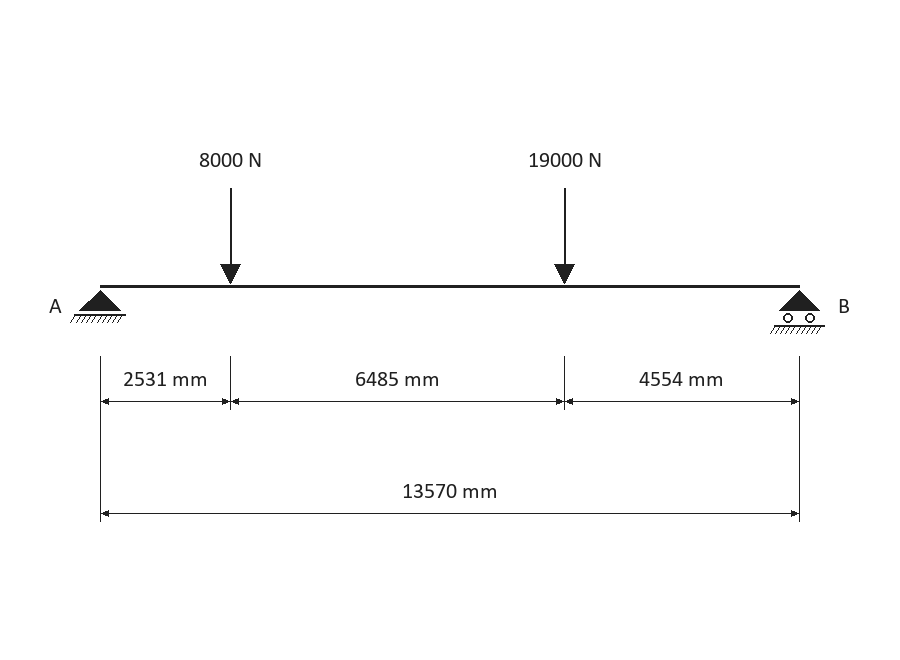pin_support: (70, 290, 126, 323)
point_load: (220, 188, 241, 284), (554, 188, 575, 284)
roller_support: (770, 290, 825, 334)
